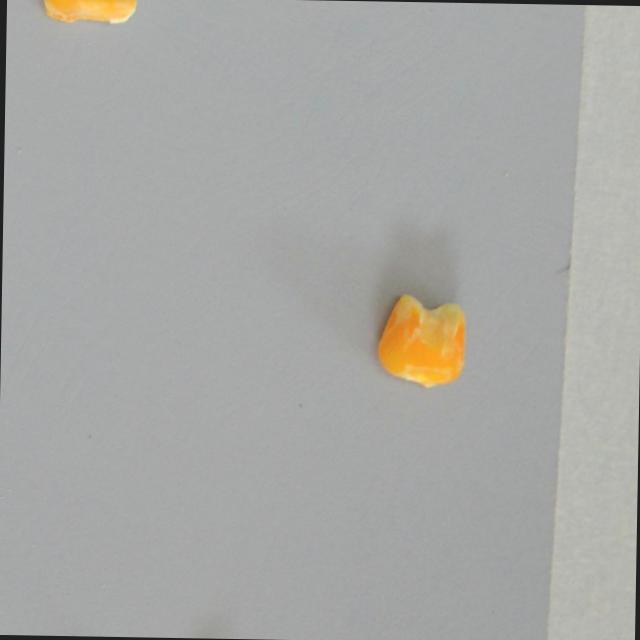pelicula: (372, 290, 469, 389), (37, 0, 140, 28)
